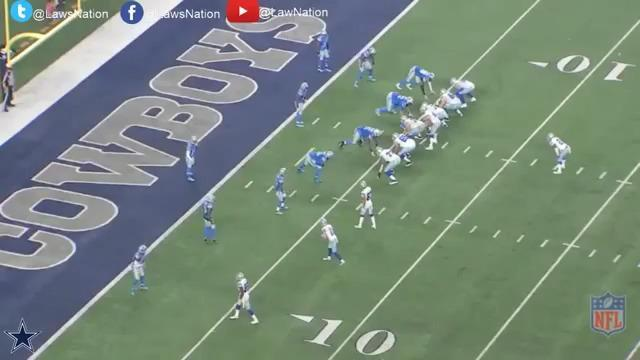defense: (296, 147, 335, 186), (338, 125, 383, 156), (129, 243, 152, 299), (395, 64, 436, 94), (375, 93, 416, 122), (199, 190, 219, 246), (353, 42, 377, 88), (270, 167, 291, 219), (290, 80, 311, 129), (183, 134, 199, 184), (316, 30, 334, 74)
oline: (373, 146, 399, 188), (390, 131, 416, 168), (435, 89, 463, 120), (420, 102, 447, 129), (401, 114, 426, 141)
qb: (419, 107, 441, 150)
ref: (2, 66, 16, 116)
skill: (227, 272, 259, 326), (319, 216, 349, 269), (354, 180, 379, 231), (546, 132, 572, 176), (449, 77, 477, 109)
